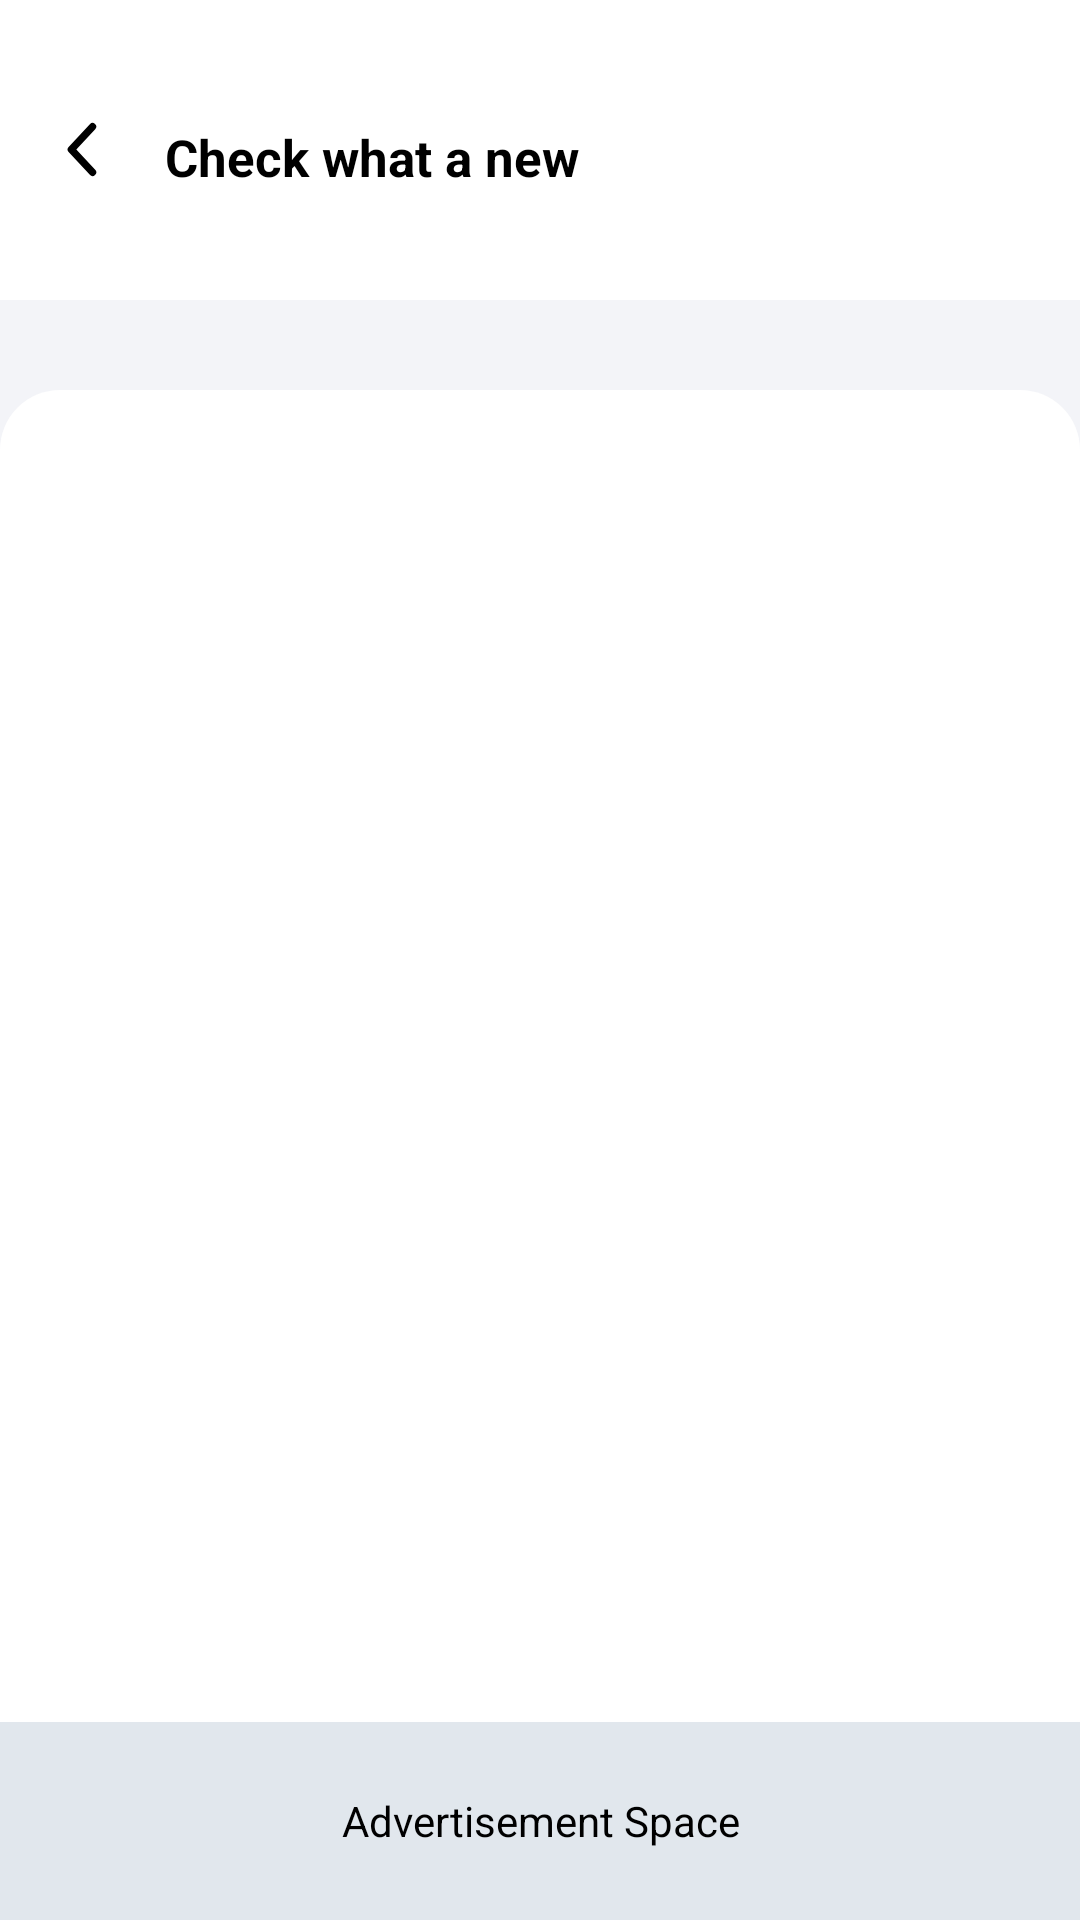

Screen size 1080*1920. Icon name, then its center in pixels as [x,y]:
back arrow: [82,149]
